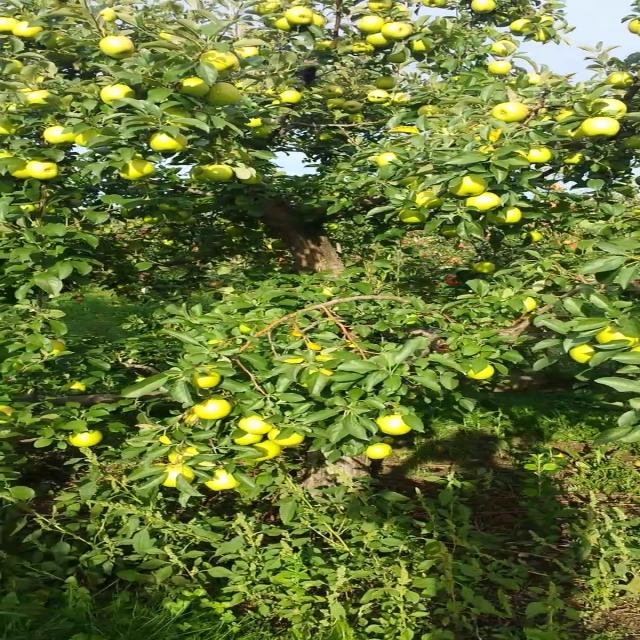apple: (201, 51, 239, 73), (116, 160, 156, 180), (204, 470, 240, 492), (206, 83, 241, 105), (100, 36, 134, 58), (192, 399, 229, 419), (581, 117, 619, 136), (596, 326, 636, 344), (492, 102, 528, 122), (448, 176, 484, 196), (592, 98, 625, 119), (268, 428, 306, 446), (377, 415, 411, 435), (162, 465, 194, 486), (150, 134, 187, 152), (238, 415, 271, 435), (100, 85, 134, 103), (167, 446, 201, 464), (466, 192, 499, 210), (27, 159, 55, 180), (353, 15, 382, 35), (178, 79, 209, 97), (381, 21, 412, 39), (252, 441, 278, 461), (44, 126, 74, 143), (415, 190, 443, 208), (570, 345, 597, 363), (66, 431, 100, 445), (285, 7, 311, 25), (12, 22, 44, 36), (206, 164, 234, 180), (527, 146, 554, 162), (365, 442, 391, 458), (606, 72, 631, 88), (193, 375, 221, 389), (510, 19, 531, 36), (468, 365, 493, 379), (8, 164, 31, 179), (276, 89, 300, 103), (234, 433, 261, 445), (365, 35, 391, 47), (399, 210, 425, 222), (366, 90, 388, 104), (492, 40, 514, 54), (502, 207, 520, 224), (551, 108, 576, 120), (470, 0, 494, 12), (389, 92, 412, 104), (408, 39, 430, 51), (340, 100, 362, 112), (233, 47, 259, 57), (352, 43, 373, 55), (367, 0, 391, 10), (418, 106, 442, 116), (489, 61, 509, 73), (98, 8, 115, 22), (378, 152, 396, 165), (167, 108, 190, 118), (0, 19, 19, 31), (385, 51, 404, 63), (393, 5, 409, 19), (258, 2, 279, 12), (521, 232, 542, 242), (315, 39, 336, 49), (345, 114, 366, 124), (377, 76, 396, 87), (252, 127, 272, 137), (322, 86, 342, 96), (474, 263, 494, 273), (29, 91, 47, 102), (326, 98, 344, 109), (572, 127, 585, 142), (50, 340, 66, 352), (274, 18, 290, 30), (526, 73, 542, 85), (524, 296, 534, 314), (623, 136, 638, 148), (563, 154, 582, 163), (534, 29, 548, 41), (241, 176, 261, 184), (70, 381, 86, 391), (9, 58, 24, 68), (158, 203, 176, 211), (145, 215, 163, 223), (0, 406, 14, 416), (540, 15, 554, 25), (629, 20, 639, 34), (243, 118, 260, 126), (314, 14, 325, 26), (2, 124, 15, 134), (77, 134, 87, 146), (552, 129, 571, 135), (1, 152, 14, 158), (629, 346, 639, 352)
